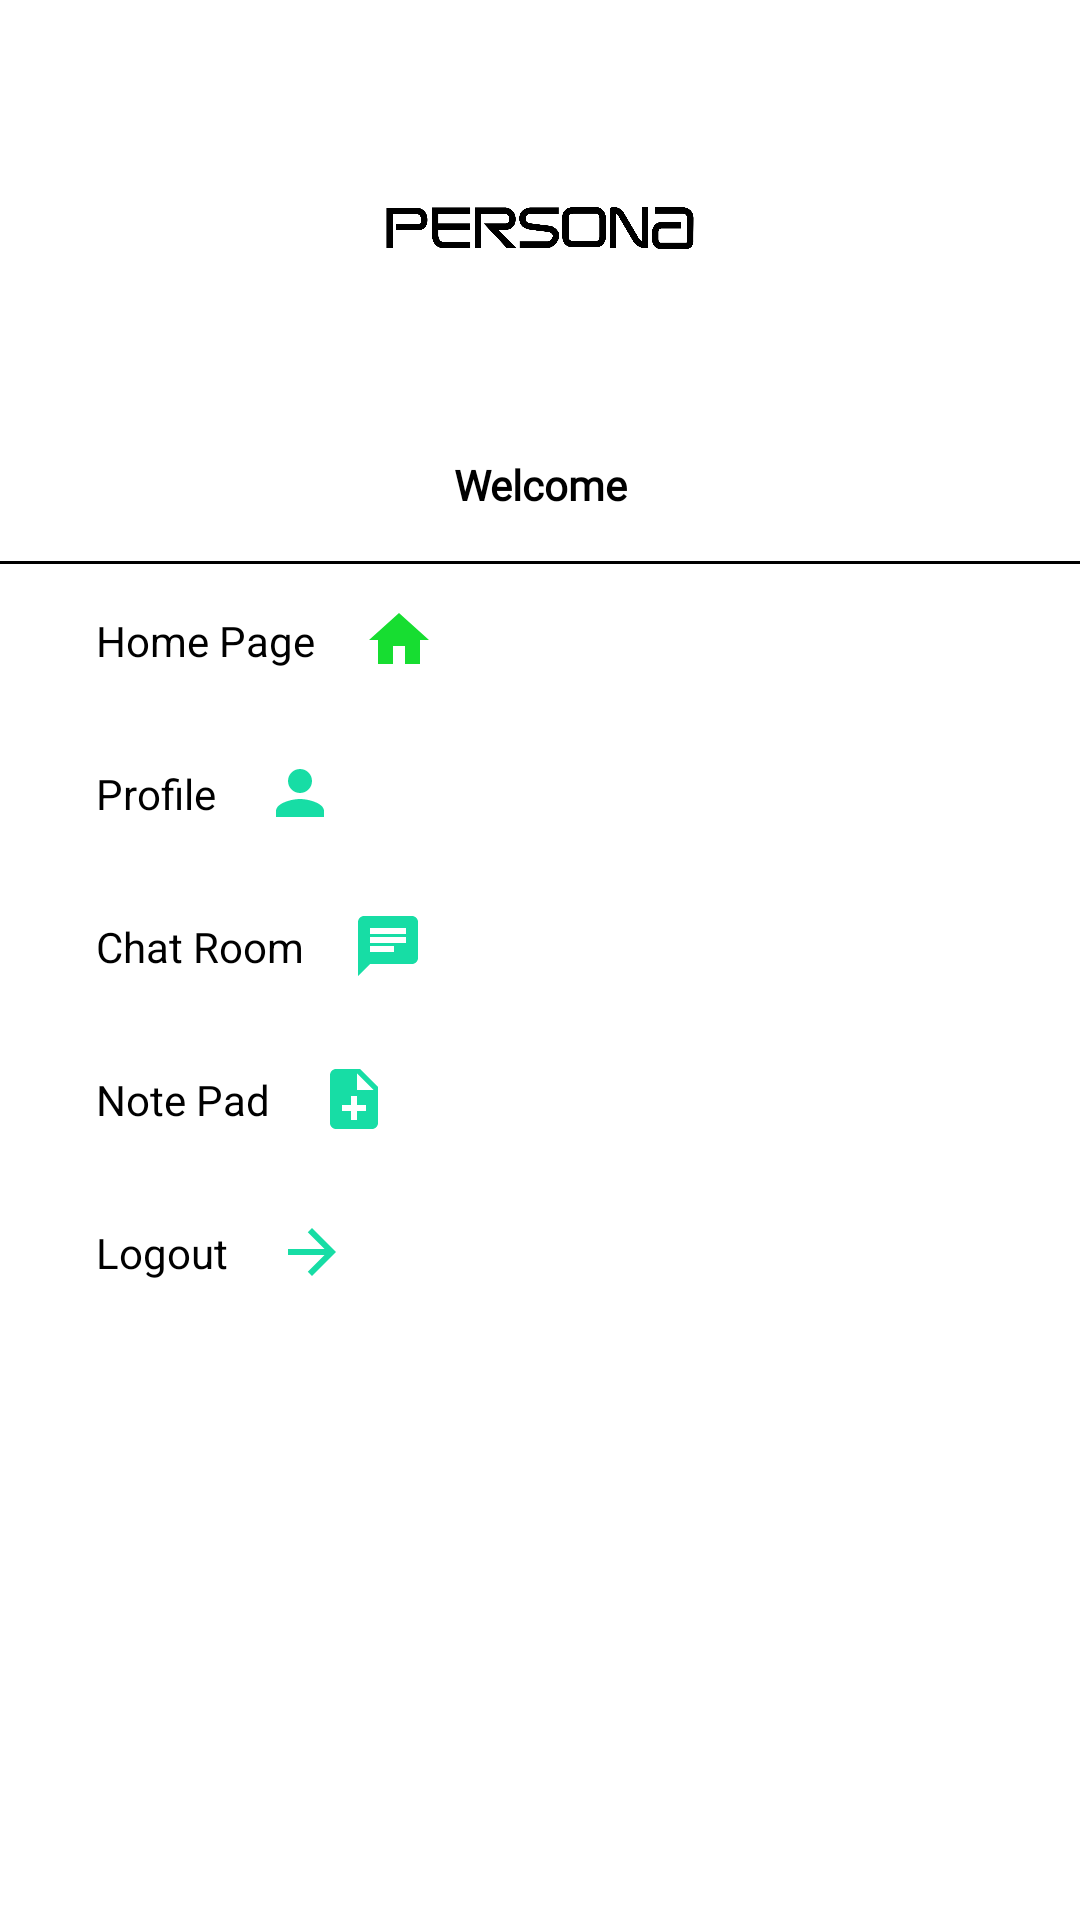

Named icons in this screenshot (1080 x 1920) and their centers, [x,y]:
arrow forward: [312,1252]
note add: [354,1099]
person: [300,793]
